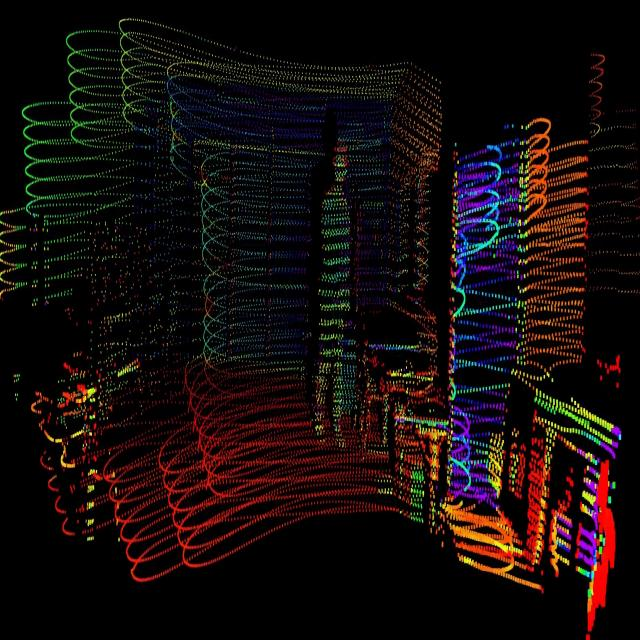human: (312, 126, 355, 460)
